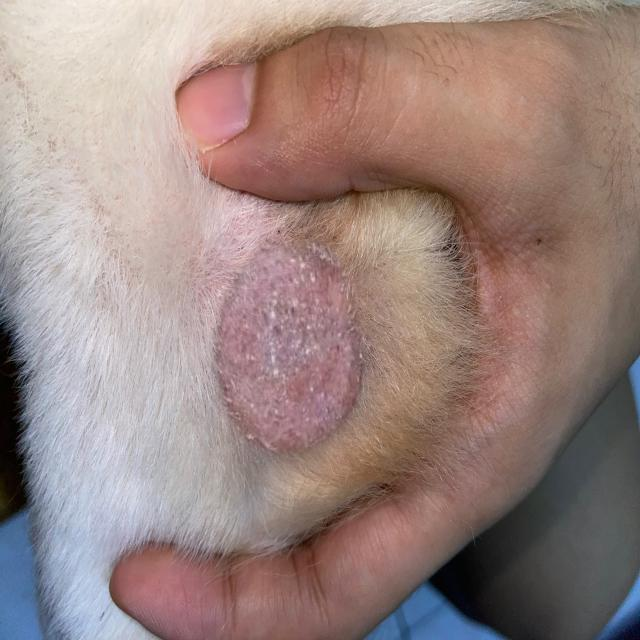ringworm: (160, 209, 394, 459)
